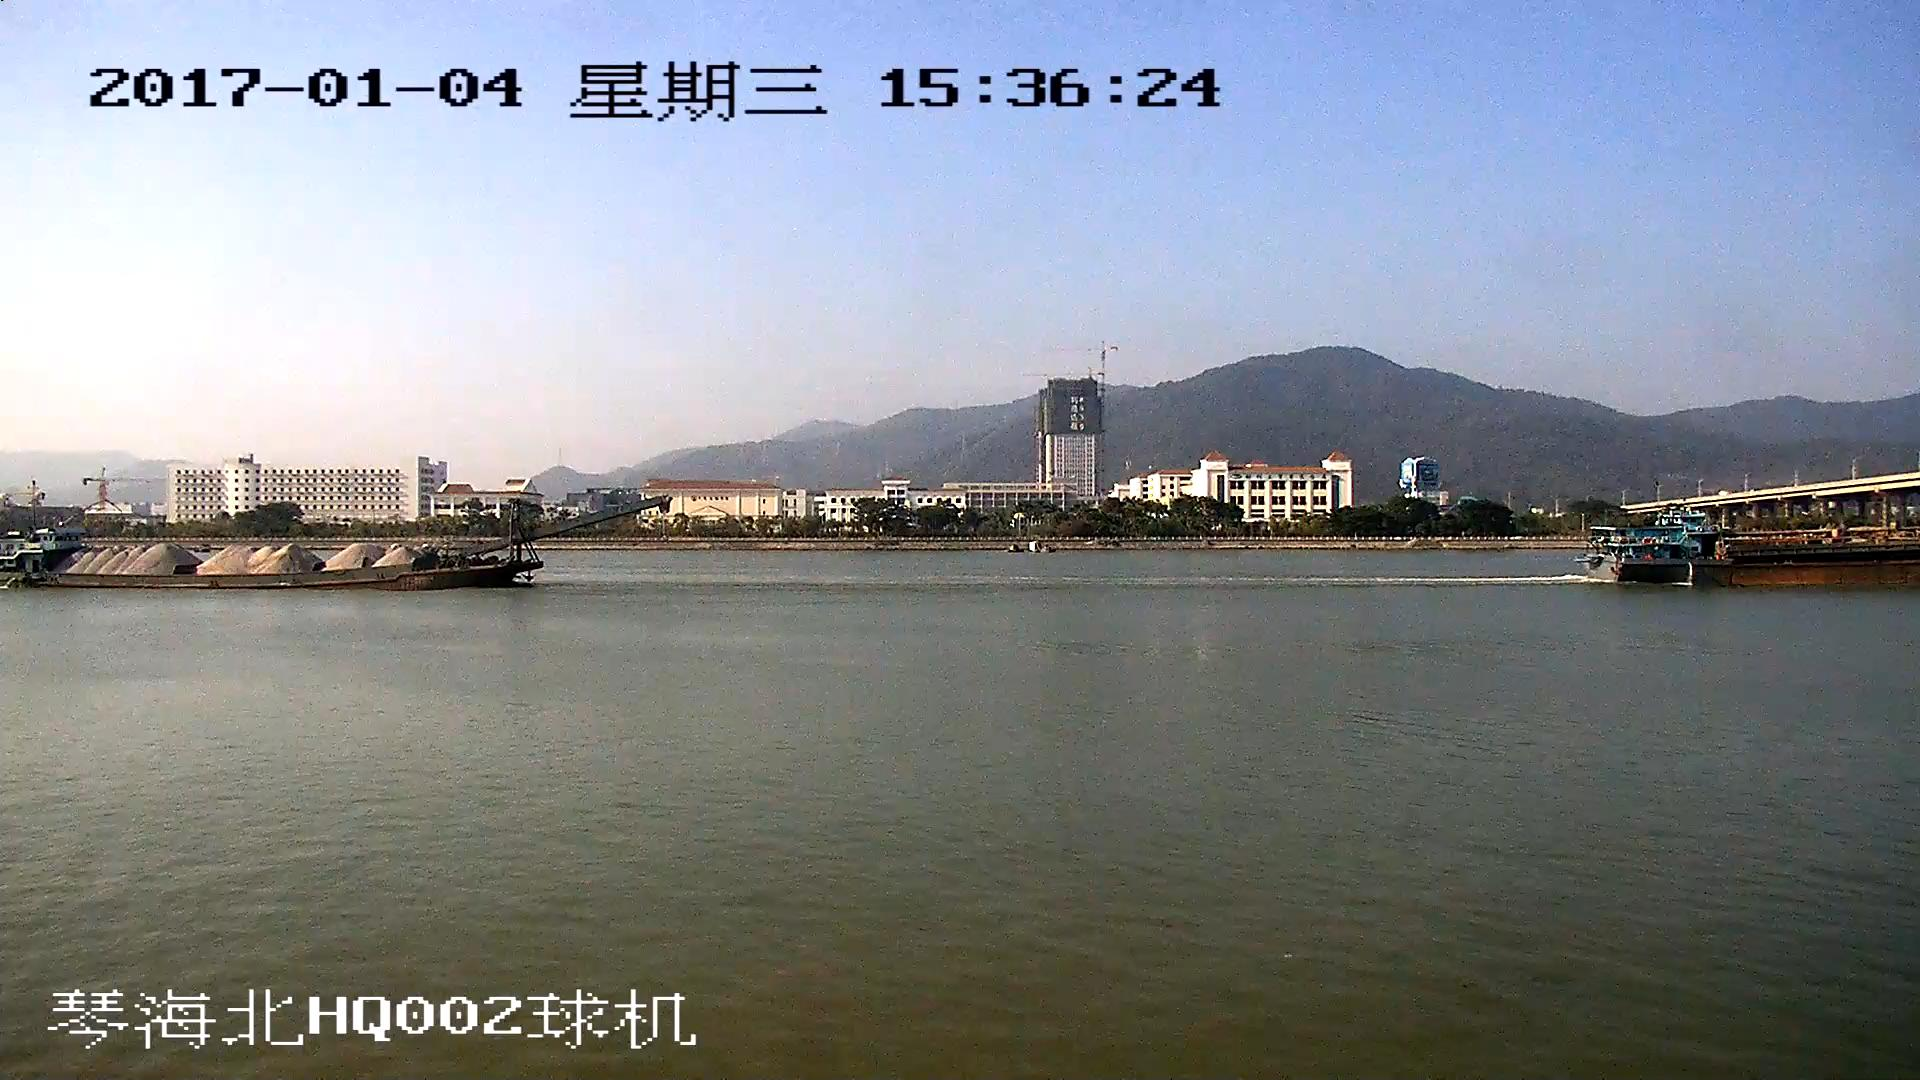bulk cargo carrier: (1590, 526, 1920, 586)
ore carrier: (1, 500, 659, 583)
